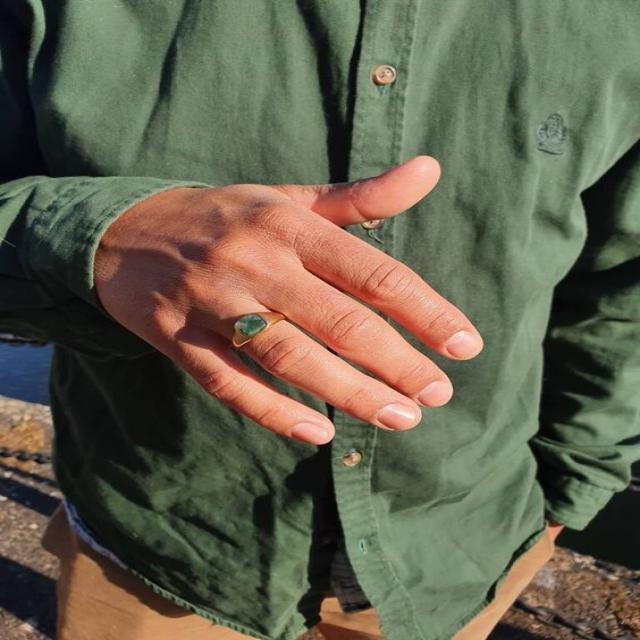Fingernail: (379, 404, 416, 429), (448, 332, 482, 358), (419, 381, 451, 407), (292, 423, 327, 445)
